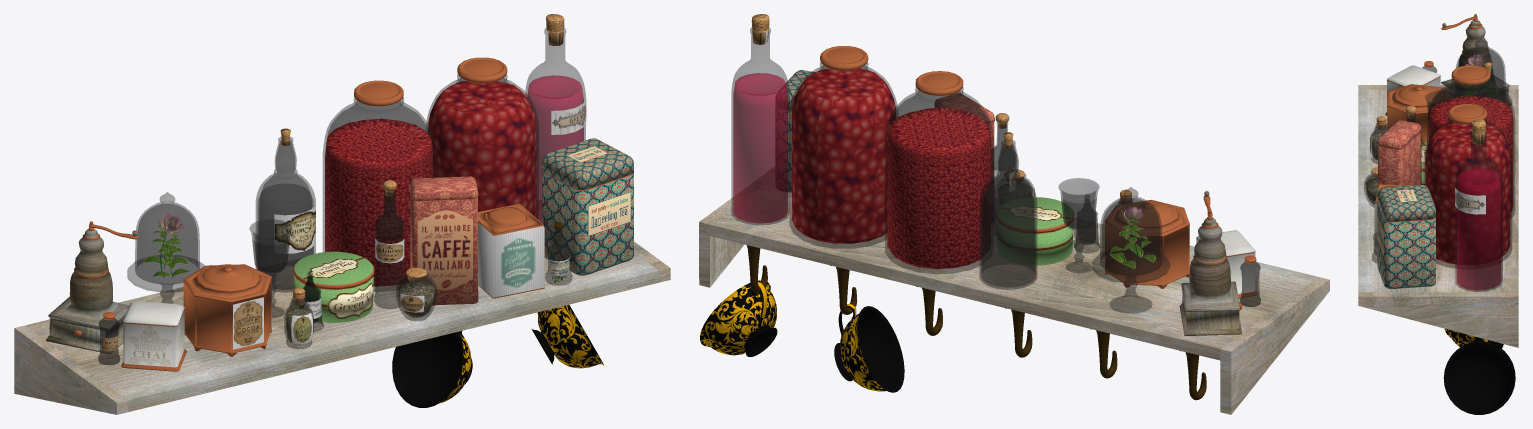
Rendered from kitchen_shelf.glb.
3 views of the same model, side by side, from view 1: azimuth 30°, elevation 25°; view 2: azimuth 150°, elevation 25°; view 3: azimuth 270°, elevation 25° (orthographic). The views are drawn at different scales.
Visible parts, largest first — view 1: Cube.022, Cylinder.067, Cylinder.069, Cylinder.064, Cylinder.065, Roundcube.004, Roundcube.003, Cylinder.062, Cube.036, Cylinder.088, Cylinder.059, Cylinder.070 (+21 smaller); view 2: Cube.022, Cylinder.067, Cylinder.064, Cylinder.065, Cylinder.069, Cylinder.059, Cylinder.061, Cylinder.070, Cylinder.062, Cylinder.088, Cylinder.023, Cylinder.094 (+18 smaller); view 3: Cube.022, Cylinder.064, Cylinder.065, Cylinder.059, Roundcube.004, Cylinder.061, Cylinder.104, Cylinder.067, Roundcube.003, Cylinder.069, Cylinder.062, Cylinder.094 (+14 smaller).
Part boxes in pixels (x1,y1,x2,y2): Cube.022: [14, 200, 670, 414]; Cylinder.067: [323, 97, 434, 291]; Cylinder.069: [325, 118, 432, 286]; Cylinder.064: [426, 74, 538, 219]; Cylinder.065: [428, 81, 536, 217]; Roundcube.004: [542, 138, 633, 275]; Roundcube.003: [409, 176, 478, 305]; Cylinder.062: [183, 264, 271, 356]; Cube.036: [478, 203, 544, 298]; Cylinder.088: [46, 229, 137, 353]; Cylinder.059: [525, 14, 585, 222]; Cylinder.070: [256, 137, 315, 292]; Cube.022: [699, 167, 1329, 414]; Cylinder.067: [885, 87, 993, 273]; Cylinder.064: [790, 62, 897, 248]; Cylinder.065: [792, 68, 895, 243]; Cylinder.069: [887, 107, 991, 268]; Cylinder.059: [731, 14, 789, 224]; Cylinder.061: [733, 73, 787, 222]; Cylinder.070: [979, 140, 1036, 289]; Cylinder.062: [1105, 200, 1189, 288]; Cylinder.088: [1179, 191, 1241, 335]; Cylinder.023: [996, 197, 1073, 265]; Cylinder.094: [1100, 187, 1161, 275]; Cube.022: [1358, 85, 1518, 347]; Cylinder.064: [1423, 117, 1511, 268]; Cylinder.065: [1425, 122, 1510, 263]; Cylinder.059: [1455, 119, 1502, 291]; Roundcube.004: [1377, 185, 1435, 288]; Cylinder.061: [1457, 168, 1500, 289]; Cylinder.104: [1443, 341, 1515, 414]; Cylinder.067: [1427, 78, 1514, 218]; Roundcube.003: [1377, 120, 1421, 188]; Cylinder.069: [1429, 96, 1513, 212]; Cylinder.062: [1387, 84, 1452, 142]; Cylinder.094: [1456, 38, 1505, 98].
Bounding box in the file's own units: 2.72 × 1.64 × 0.8601.
Materials: 22 (15 with a texture image).
